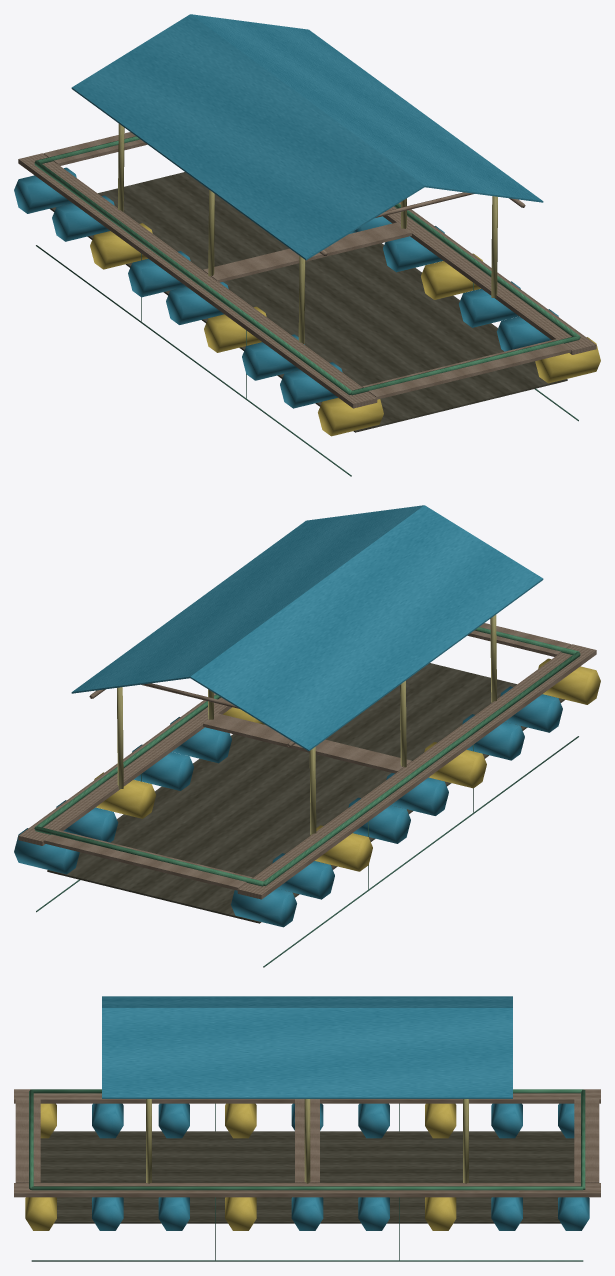
File: bung-raft-3-blue-mid.glb
3 renders of one model, top to bottom at view 1: azimuth 30°, elevation 25°; view 2: azimuth 150°, elevation 25°; view 3: azimuth 270°, elevation 25°, orthographic. The views are drawn at different scales.
Visible parts, largest first — view 1: bung-raft-3-blue-mid; view 2: bung-raft-3-blue-mid; view 3: bung-raft-3-blue-mid.
Boxes of the visible parts, x1,y1,x2,y2 form: bung-raft-3-blue-mid: (14, 14, 600, 476); bung-raft-3-blue-mid: (14, 505, 600, 967); bung-raft-3-blue-mid: (14, 996, 600, 1261).
Bounding box in the file's own units: 4.94 × 4.17 × 10.8.
1 material, 1 textured.
